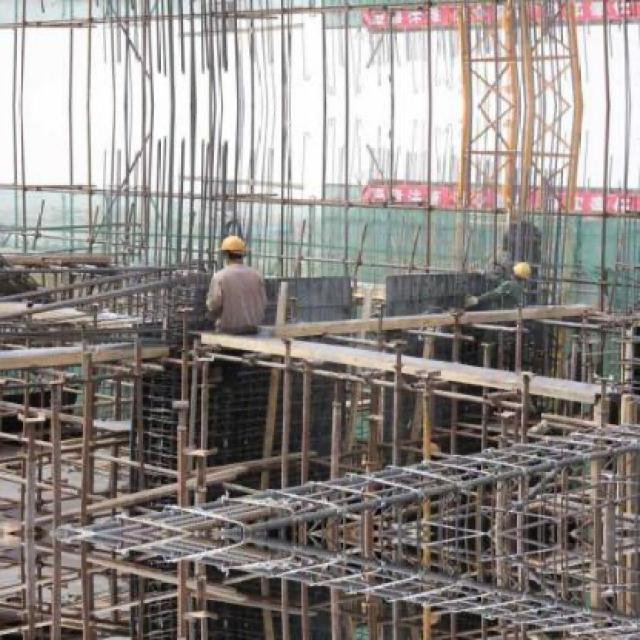helmet: (220, 232, 246, 266), (511, 259, 531, 288)
